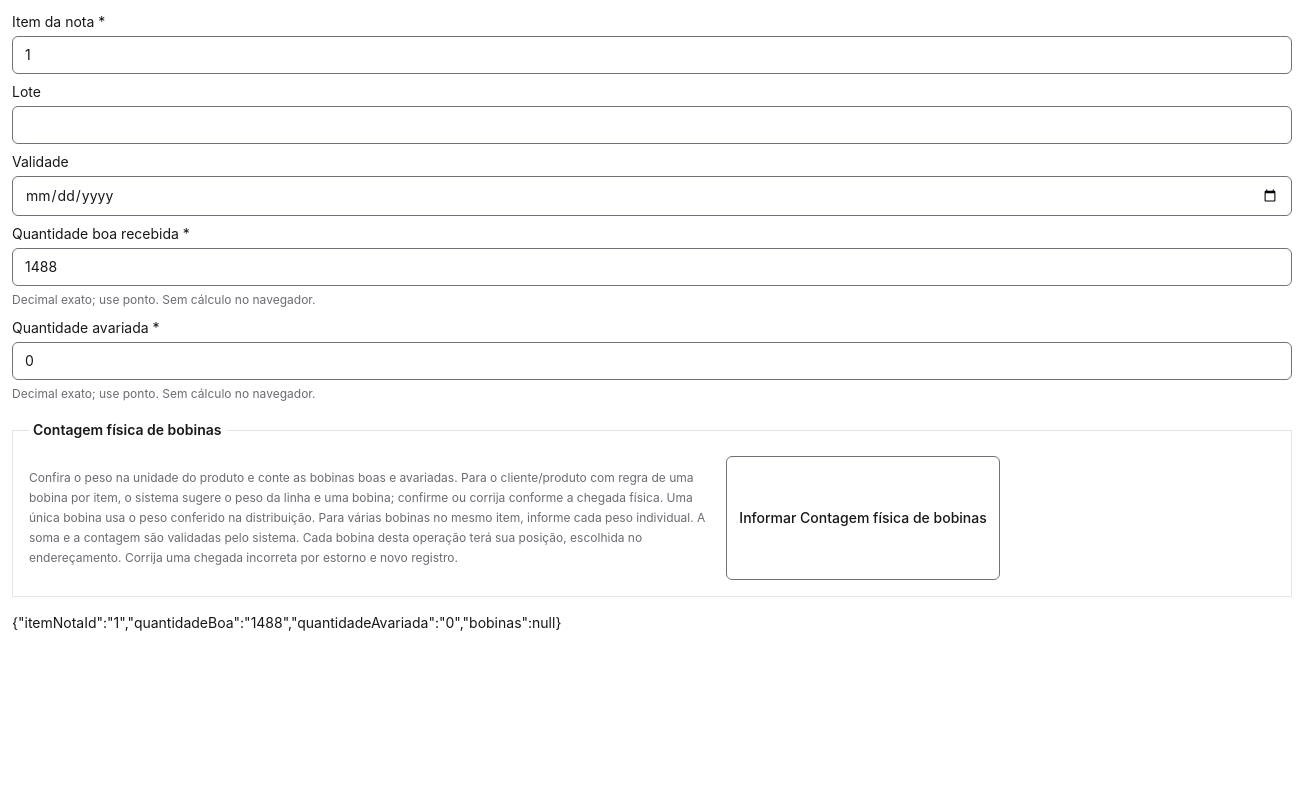
Test case: contagem fisica pode ser informada e removida sem alterar o peso
Click the button "Informar Contagem física de bobinas": (863, 518) [726,456,1000,580]
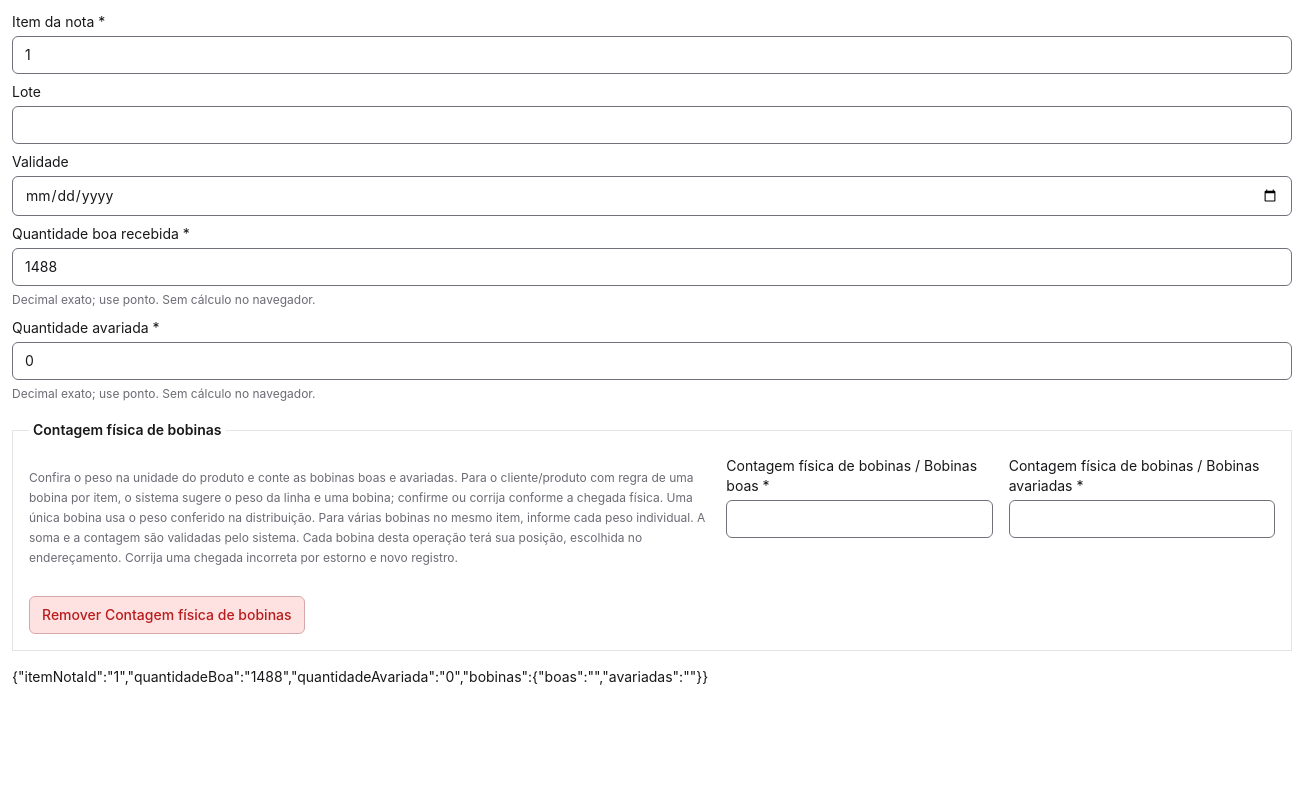
In the field labelled "Contagem física de bobinas / Bobinas boas *": (859, 519) [726,500,993,538], type "3"
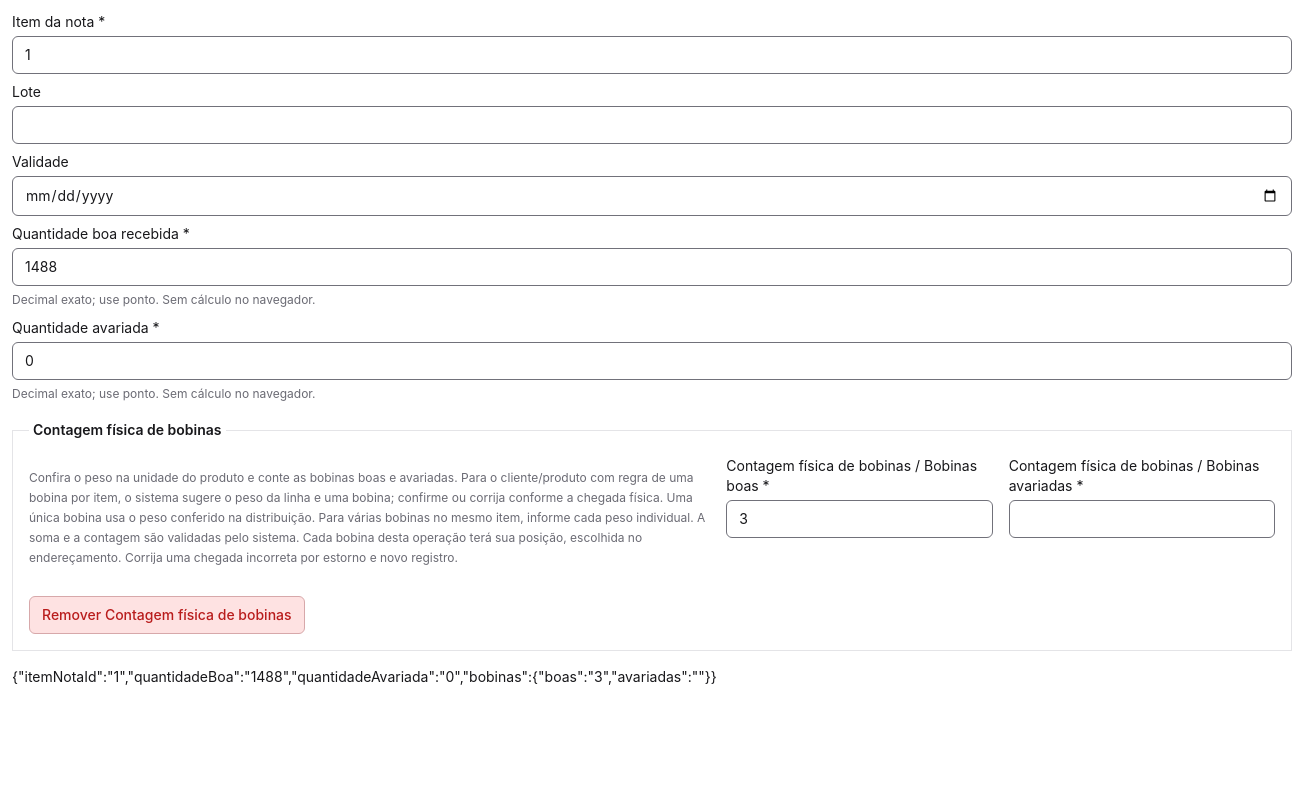
Expected: the text "\"quantidadeBoa\":\"1488\"" is shown, [12,668,717,685]
Result: the text "\"boas\":\"3\"" is shown at [12,668,717,685]
Click the button "Remover Contagem física de bobinas": (167, 615) [29,596,304,634]
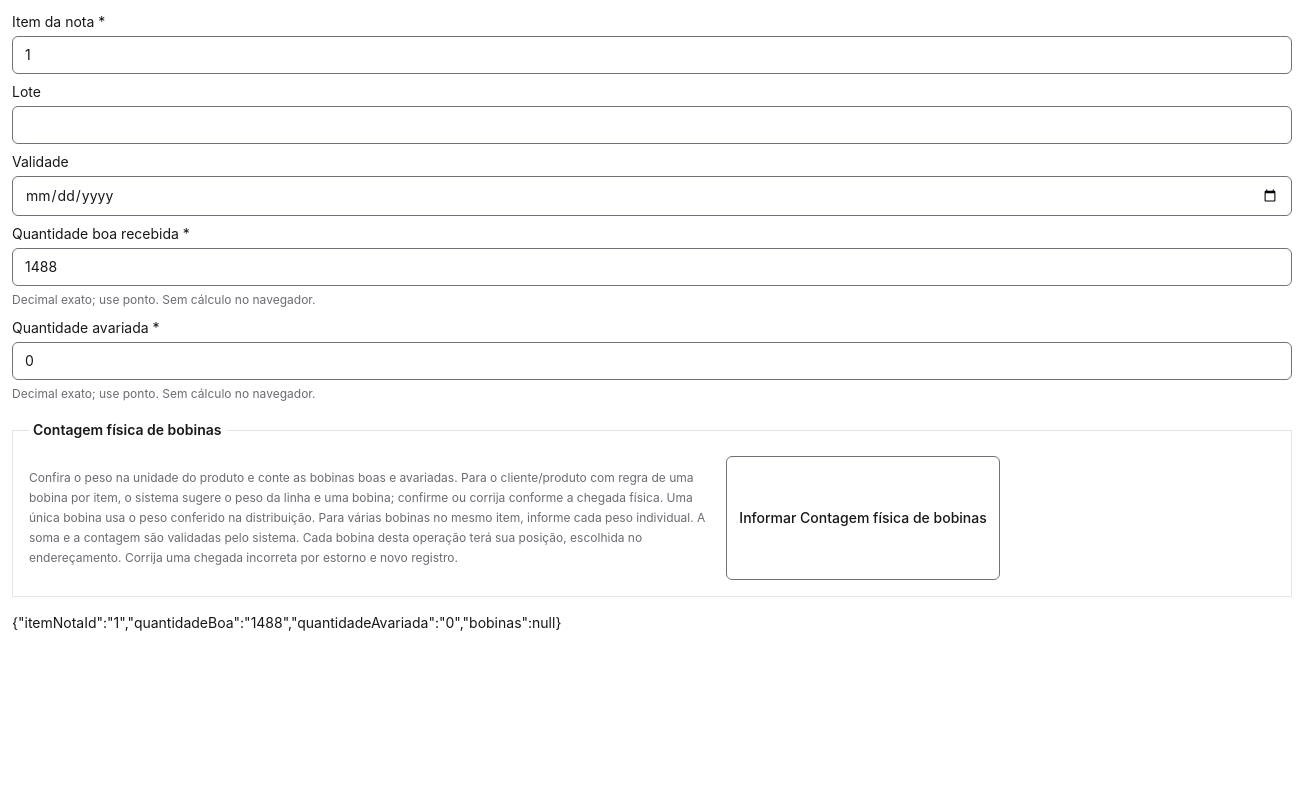
Result: the text "\"bobinas\":null" is shown at [12,614,561,631]
